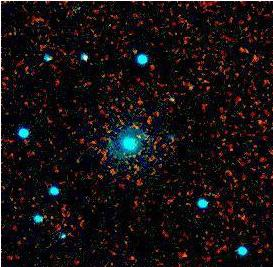star: (167, 243, 197, 267)
